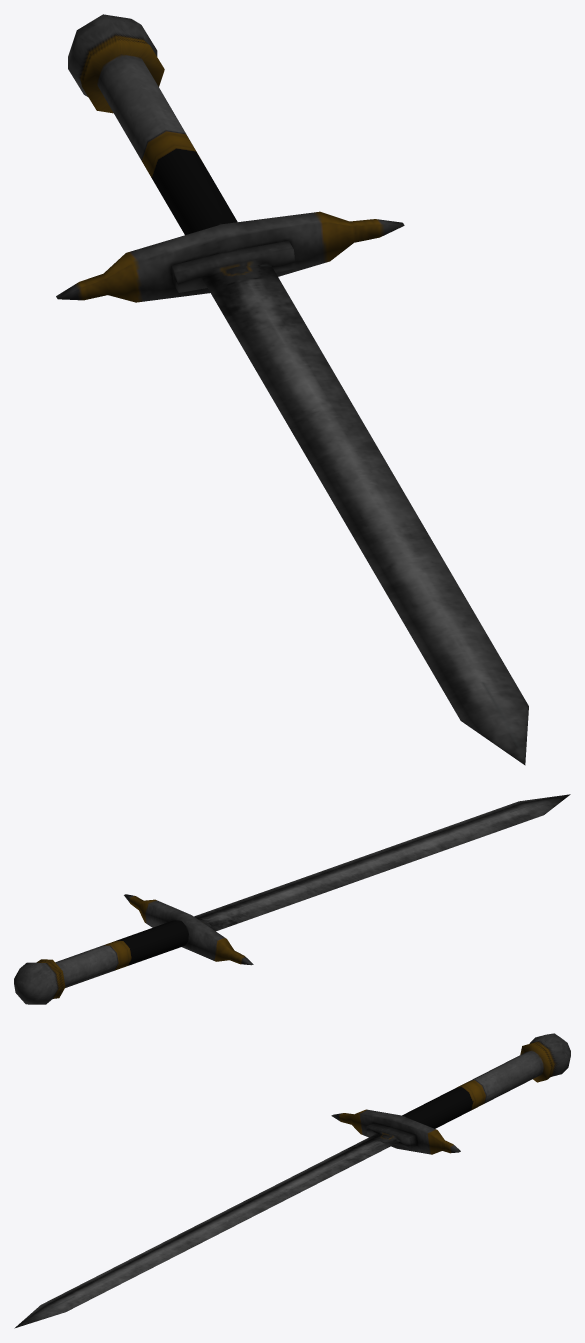
Rendered from sword.glb.
3 views of the same model, one above another, from view 1: azimuth 30°, elevation 25°; view 2: azimuth 150°, elevation 25°; view 3: azimuth 330°, elevation 25° (orthographic). The views are drawn at different scales.
Parts seen in each view (by area): view 1: Paladin_J_Nordstrom; view 2: Paladin_J_Nordstrom; view 3: Paladin_J_Nordstrom.
Boxes of the visible parts, bbox=[...] form: Paladin_J_Nordstrom: bbox=[56, 14, 528, 765]; Paladin_J_Nordstrom: bbox=[14, 794, 570, 1004]; Paladin_J_Nordstrom: bbox=[14, 1033, 570, 1328].
Bounding box in the file's own units: 0.3004 × 0.0917 × 1.01.
1 material, 1 textured.
